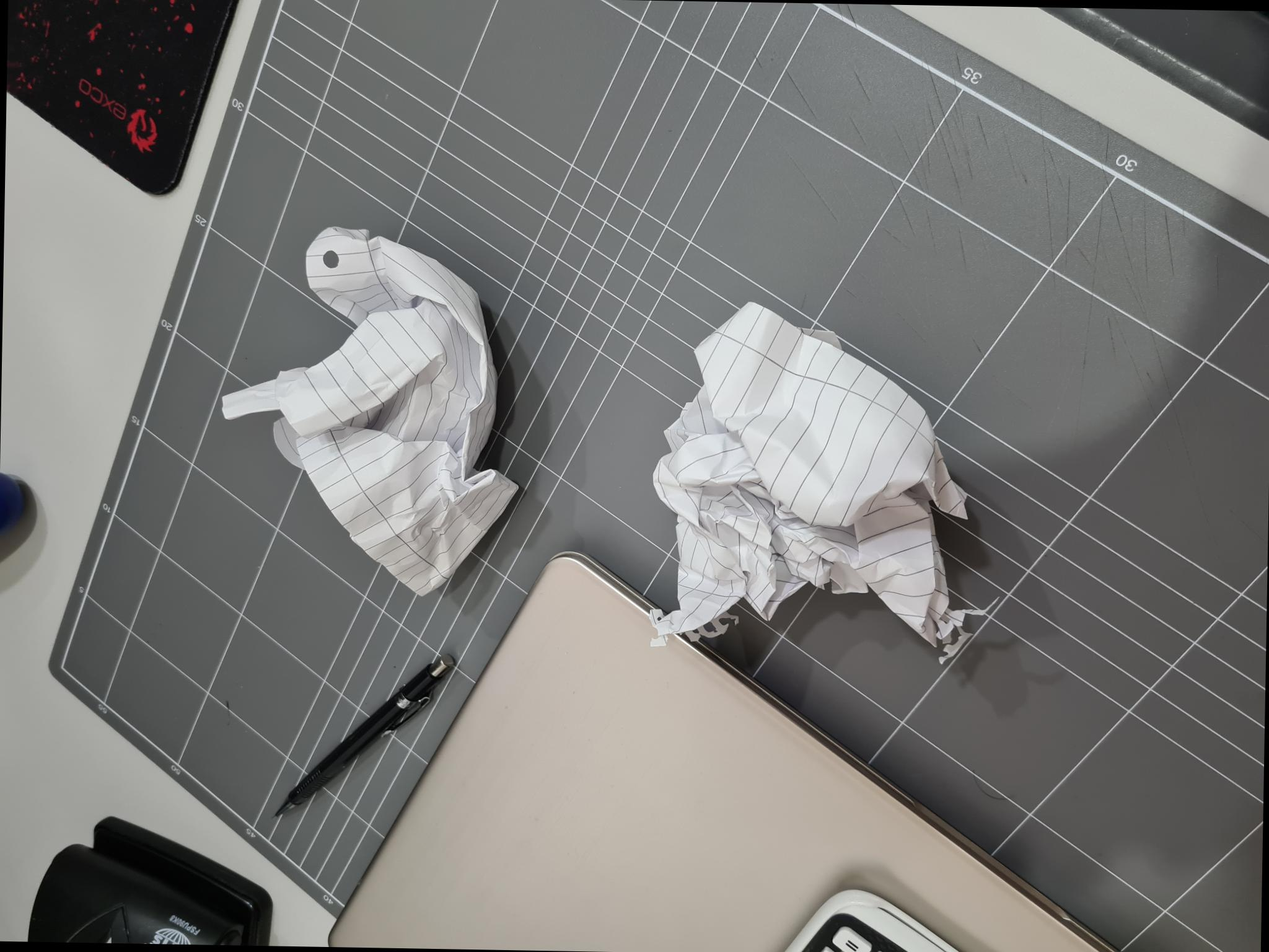Kertas: (355, 220, 721, 514), (305, 653, 646, 949)
